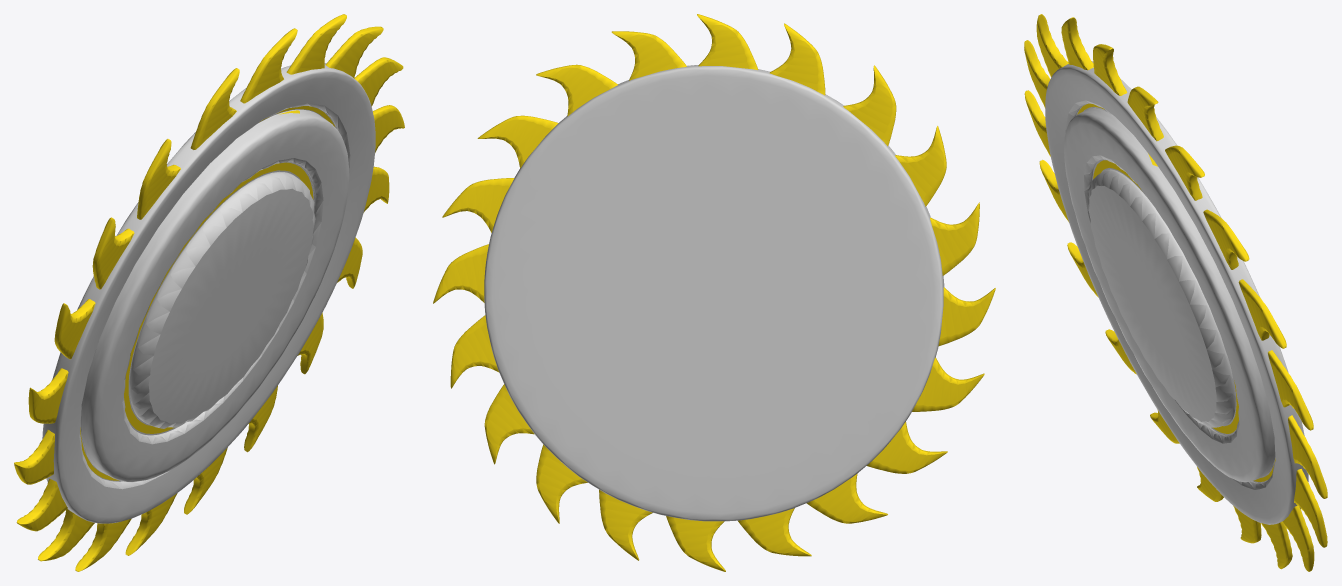
3 views of the same model, side by side, from view 1: azimuth 30°, elevation 25°; view 2: azimuth 150°, elevation 25°; view 3: azimuth 270°, elevation 25° (orthographic). The views are drawn at different scales.
Visible parts, largest first — view 1: Elec_Back_009.001, Elec_Back_009; view 2: Elec_Back_009.001, Elec_Back_009; view 3: Elec_Back_009.001, Elec_Back_009.
Part boxes in pixels (x1=…): Elec_Back_009.001: x1=42, y1=63, x2=375, y2=523; Elec_Back_009: x1=14, y1=14, x2=404, y2=571; Elec_Back_009.001: x1=484, y1=65, x2=944, y2=521; Elec_Back_009: x1=433, y1=14, x2=995, y2=571; Elec_Back_009.001: x1=1045, y1=61, x2=1308, y2=524; Elec_Back_009: x1=1024, y1=14, x2=1327, y2=571.
Bounding box in the file's own units: 126 × 68.07 × 133.
